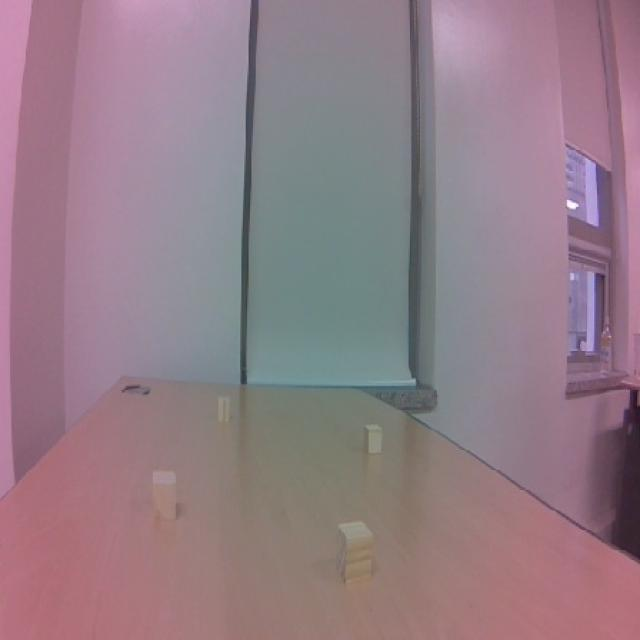obstacle: (330, 518, 382, 589), (146, 466, 188, 523), (356, 420, 388, 457)
